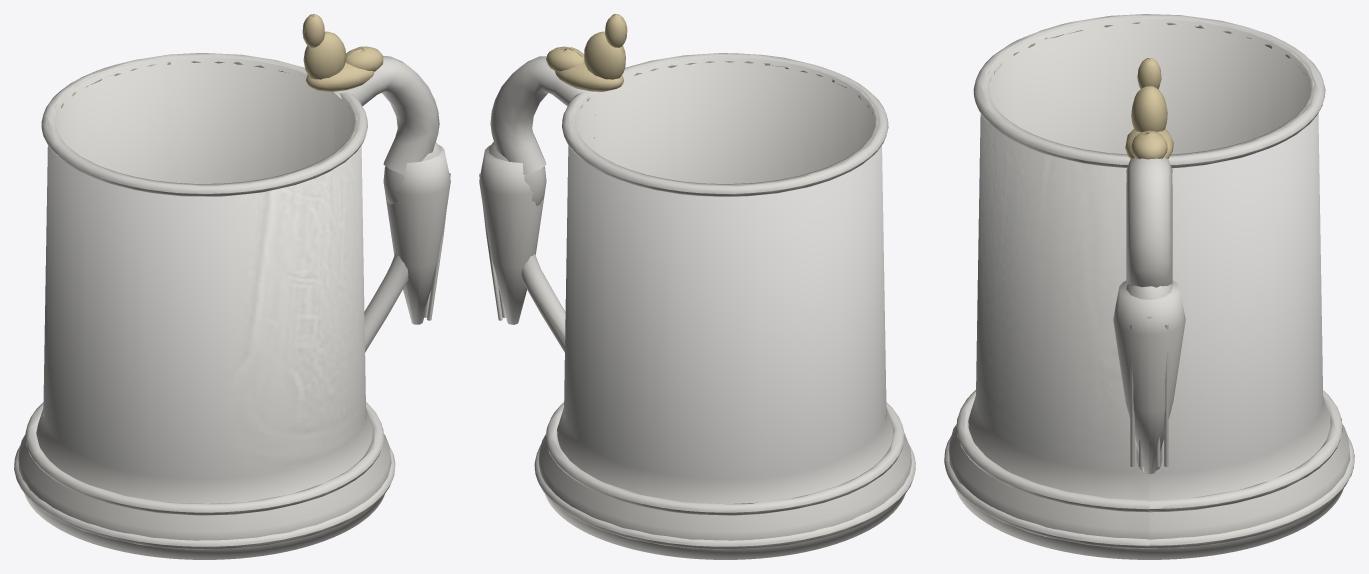
3 renders of one model, left to right at view 1: azimuth 30°, elevation 25°; view 2: azimuth 150°, elevation 25°; view 3: azimuth 270°, elevation 25°, orthographic. The views are drawn at different scales.
Visible parts, largest first — view 1: cup; view 2: cup; view 3: cup.
Boxes of the visible parts, x1,y1,x2,y2 form: cup: (14,14,450,559); cup: (479,14,915,559); cup: (944,14,1354,559).
Size of the model in its own units: 0.0956 by 0.0993 by 0.0776.
3 materials, 1 textured.
